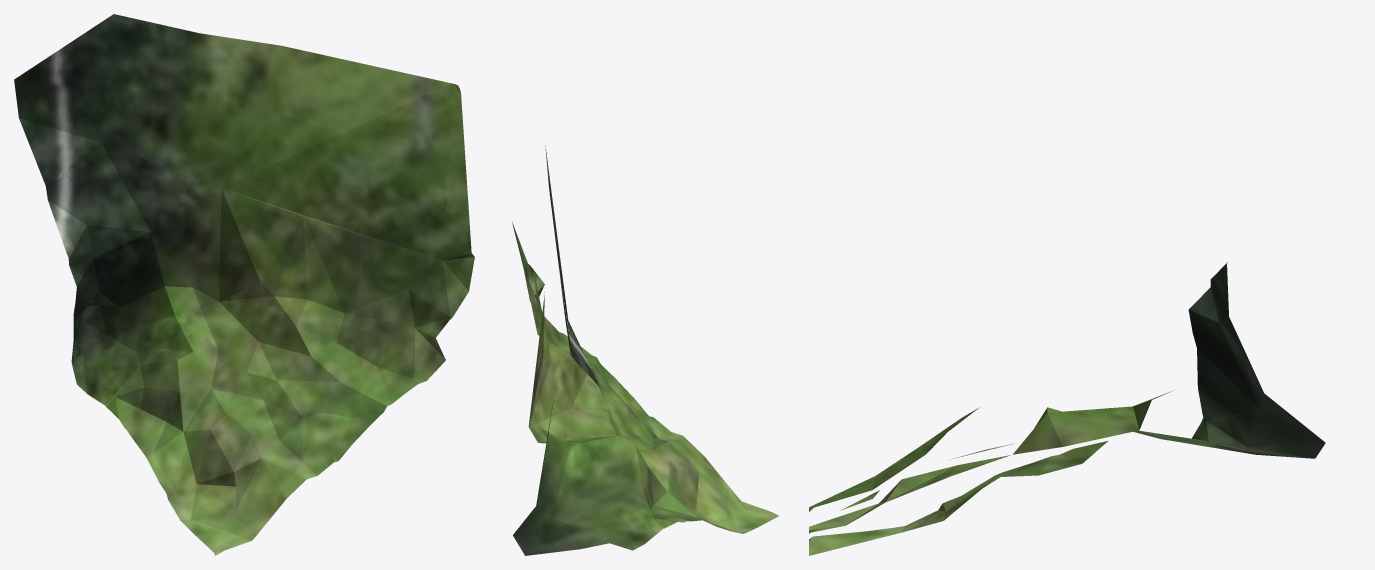
3 renders of one model, left to right at view 1: azimuth 30°, elevation 25°; view 2: azimuth 150°, elevation 25°; view 3: azimuth 270°, elevation 25°, orthographic. The views are drawn at different scales.
Size of the model in its own units: 7.59 by 11.48 by 10.18.
1 material, 1 textured.
